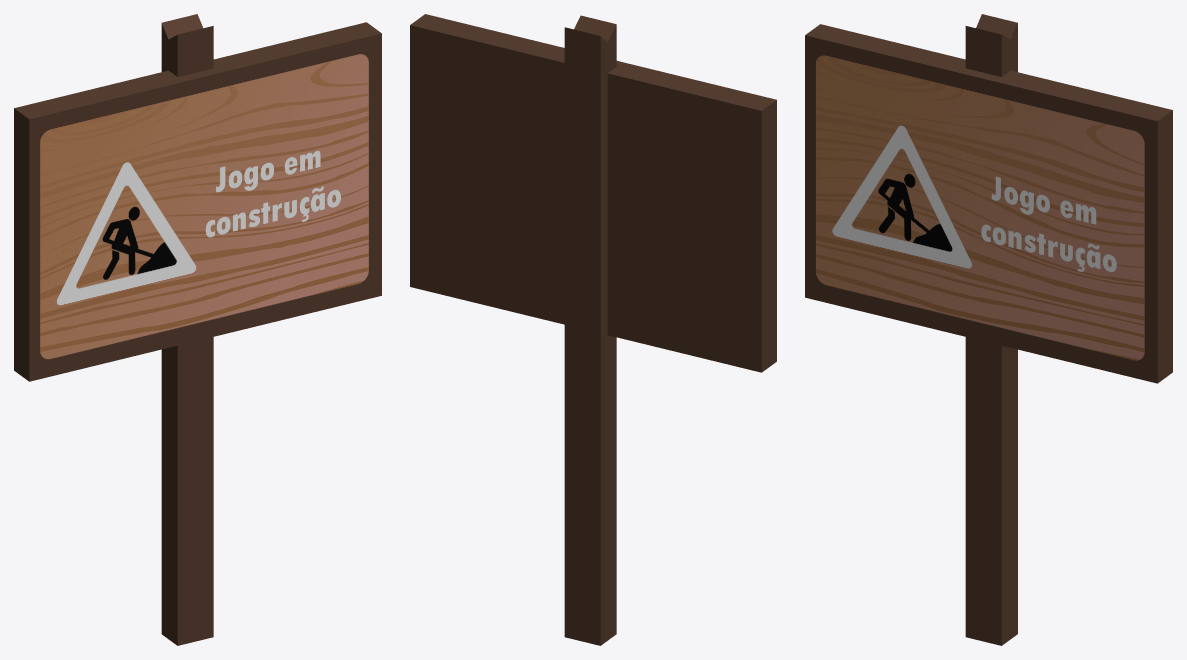
File: em_obras_placa.fbx
3 views of the same model, side by side, from view 1: azimuth 30°, elevation 25°; view 2: azimuth 150°, elevation 25°; view 3: azimuth 330°, elevation 25° (orthographic).
Parts seen in each view (by area): view 1: Cone; view 2: Cone; view 3: Cone.
Part boxes in pixels (x1,y1,x2,y2): Cone: [14, 14, 381, 645]; Cone: [410, 14, 776, 645]; Cone: [805, 14, 1172, 645].
Size of the model in its own units: 281 by 466 by 30.83.
Materials: 1 (1 with a texture image).
